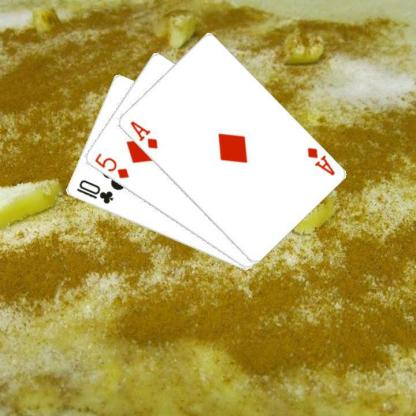10C: (74, 177, 115, 206)
5D: (91, 150, 130, 180)
AD: (127, 118, 159, 150), (304, 145, 336, 177)
